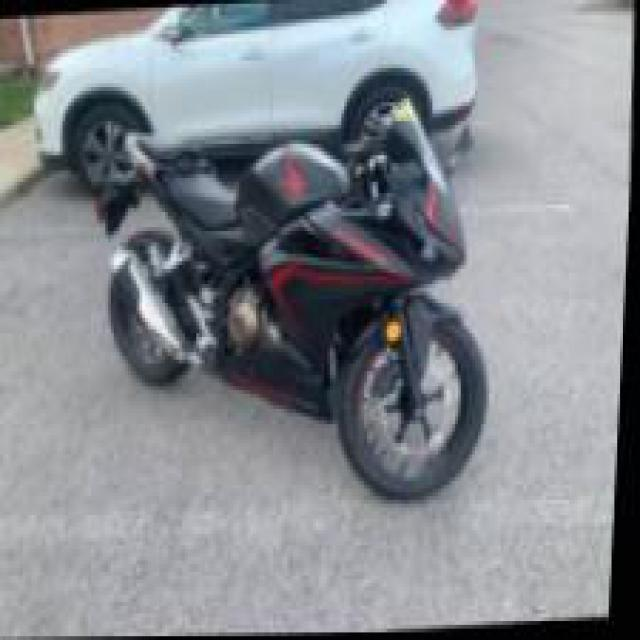CBR500R: (91, 89, 506, 517)
